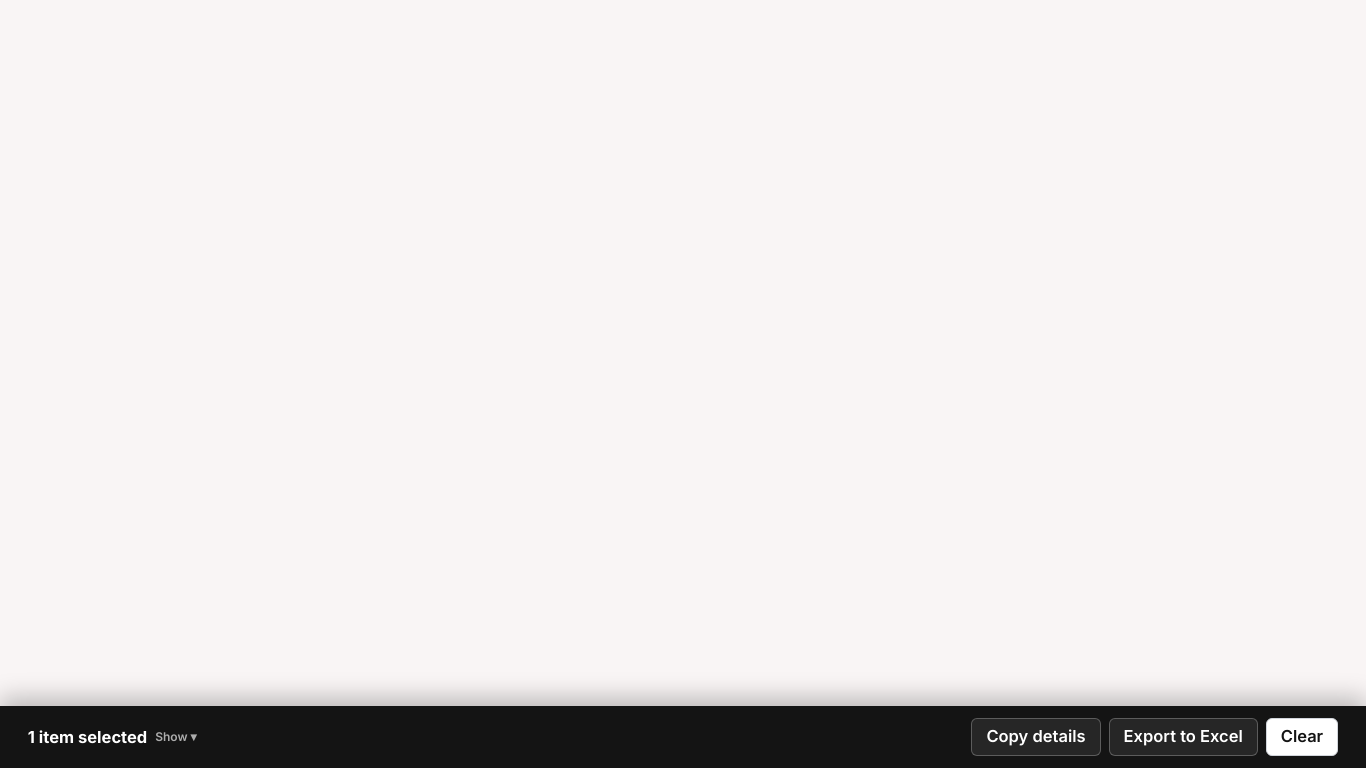
SelectionTray › shows an error message when the copy request fails
This screenshot has width=1366, height=768.
Click the button "Copy details" at (1036, 737), box [971,718,1101,756]
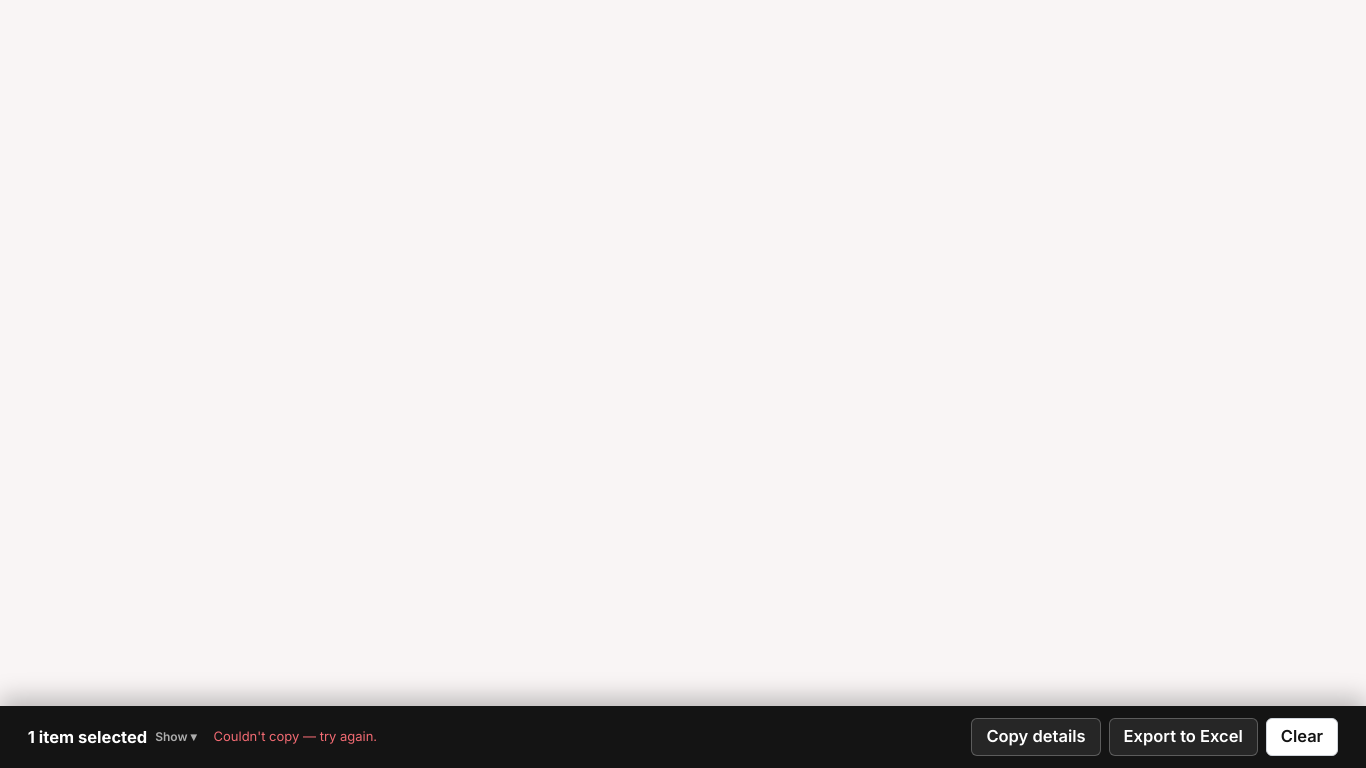
expect the message "Couldn't copy — try again." is shown: met, box [214,727,377,747]
